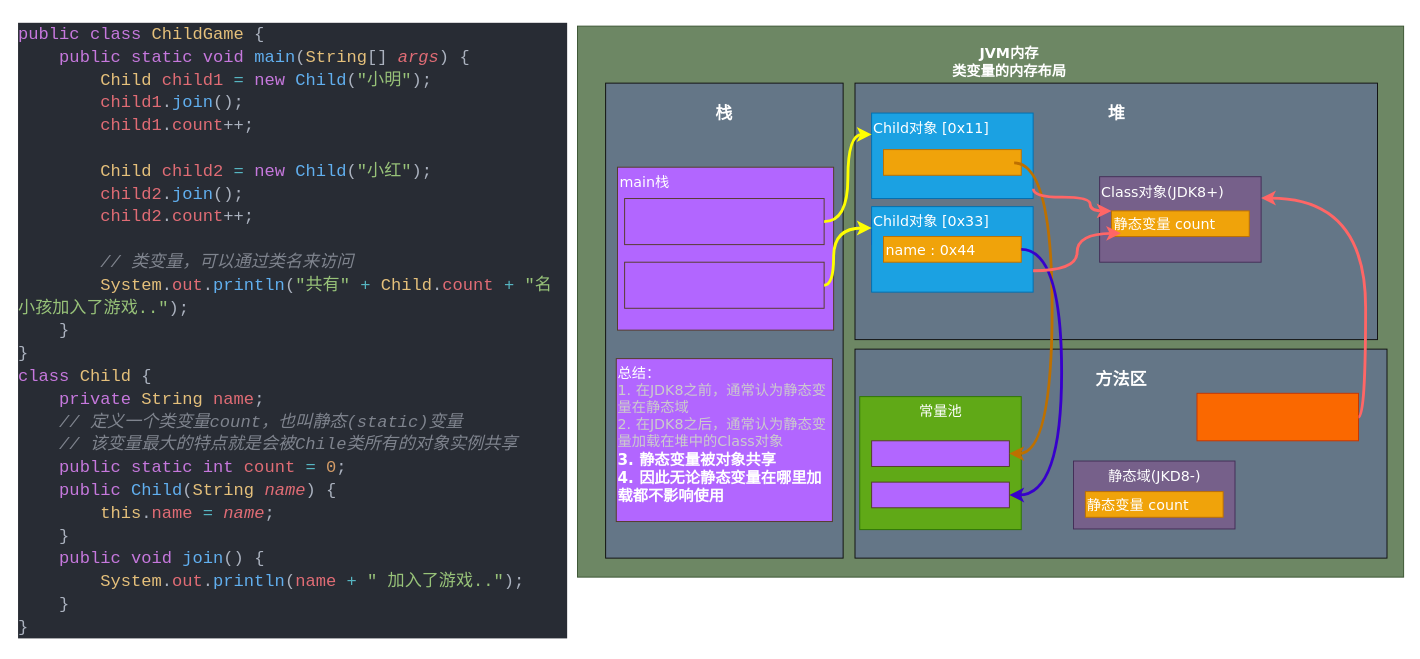
Image size: 1420x659. Some labels were removed from this diagram. Here are the shapes that lost their labels. From the top down, the centre of each, then its label:
At point 952,162: "name : 0x22".
At point 724,221: "Child child1 = new Child(); child1 -> [0x11]".
At point 724,284: "Child child2 = new Child(); child2 -> [0x11]".
At point 1277,416: "类信息加载".
At point 940,453: "小明 : 0x22".
At point 940,494: "小红 : 0x44".
